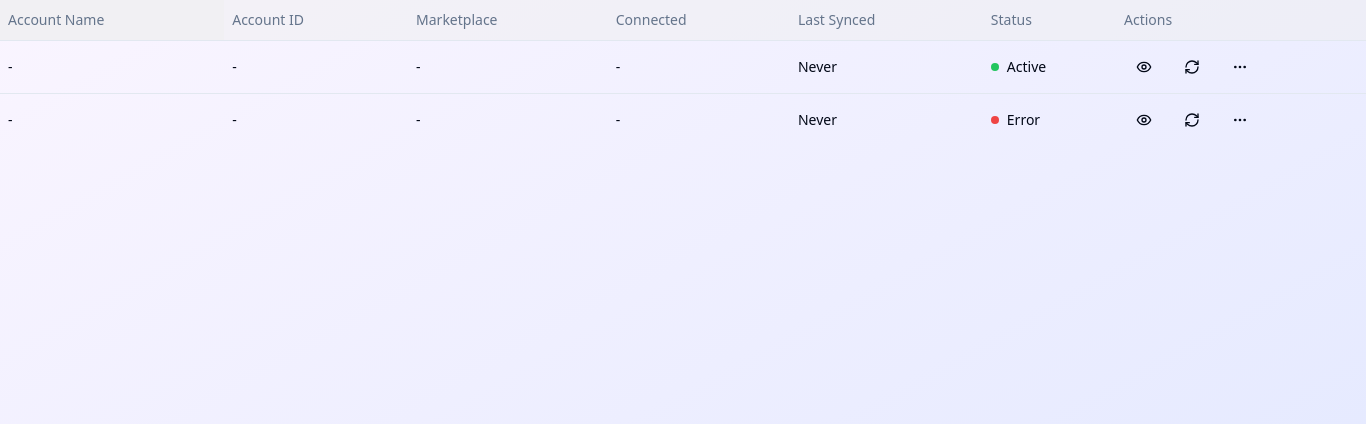
Test: AccountTypeTable › Actions › should show type-specific actions for Sponsored Ads
Click the 3rd button named "More": (1240, 66) [1220,48,1260,84]
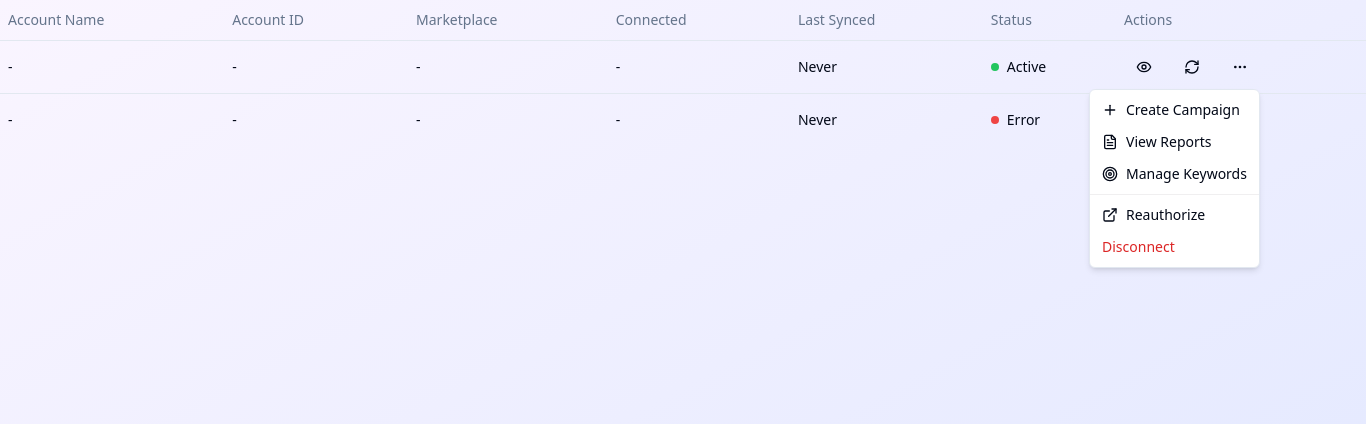
Expected: the menu item "Create Campaign" is shown, [1102,100,1240,119]
Expected: the menu item "View Reports" is shown, [1102,132,1212,151]
Expected: the menu item "Manage Keywords" is shown, [1102,164,1247,183]
